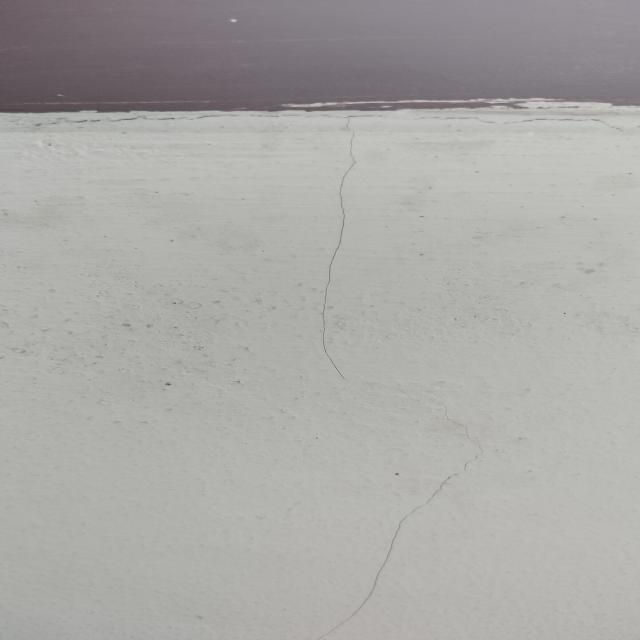Crack: (323, 429, 491, 640), (313, 124, 368, 402)
